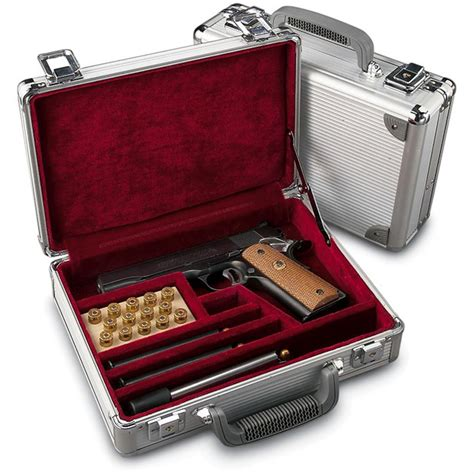gun: (94, 222, 349, 323)
